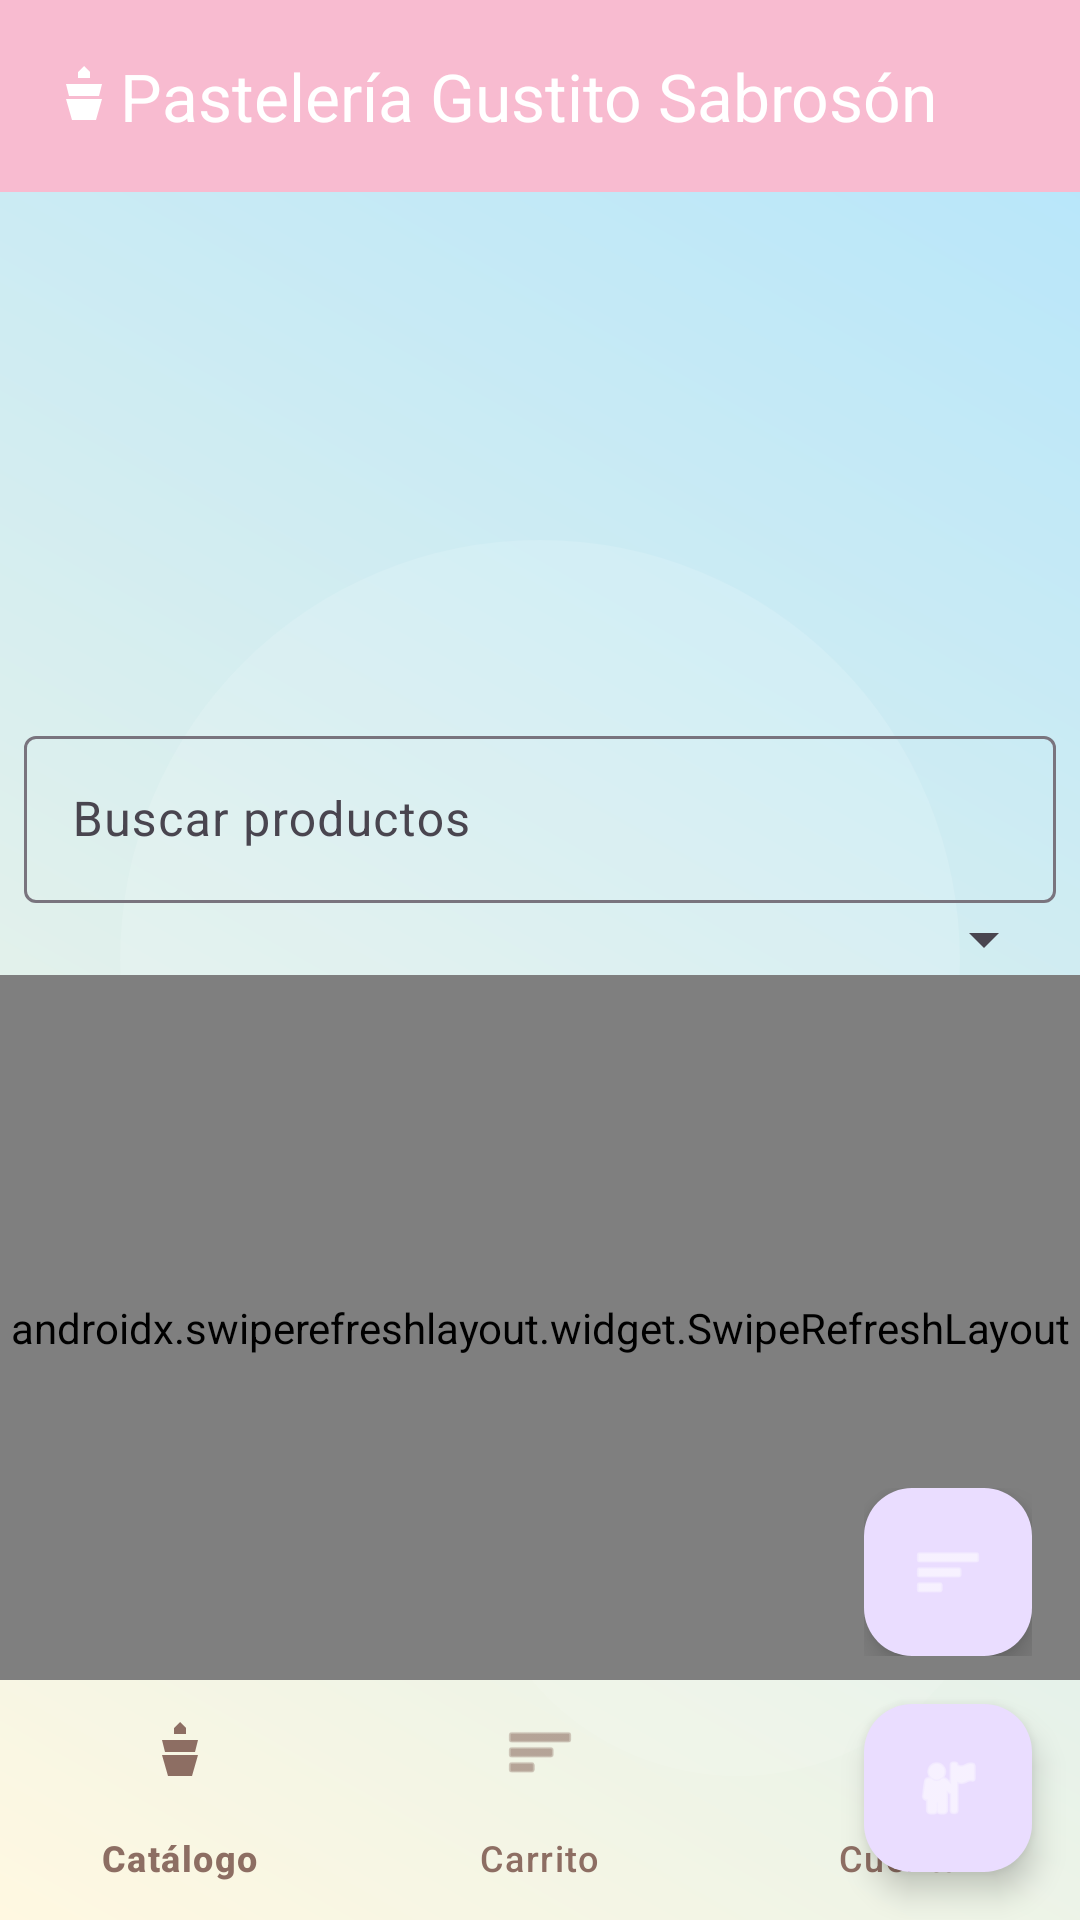

Icons on this 1080x1920 Android screen, each with its box as (x1, y1, x2, y2):
Ver perfil: (864, 1704, 1032, 1872)
